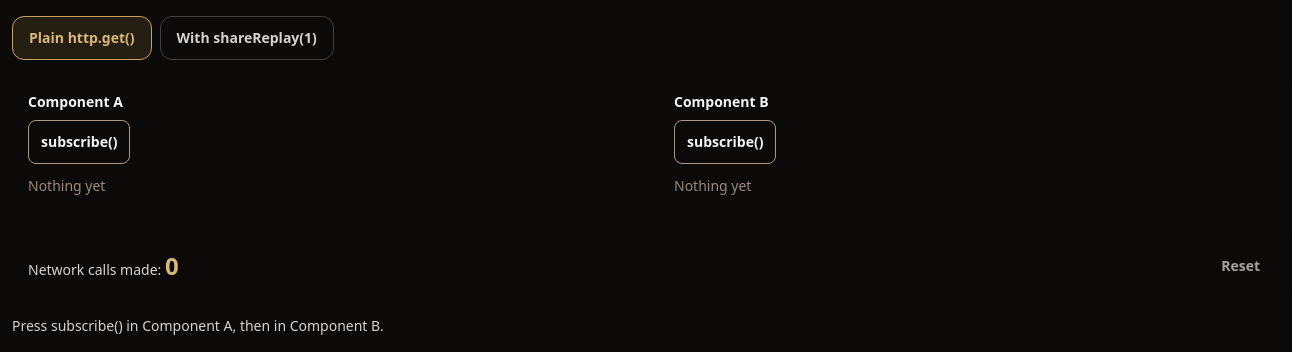
ColdObservableDemoComponent › starts over when the mode changes or on Reset
Click the 1st button "subscribe()" at (79, 142), box x1=28 y1=120 x2=130 y2=164
Wait 500 ms
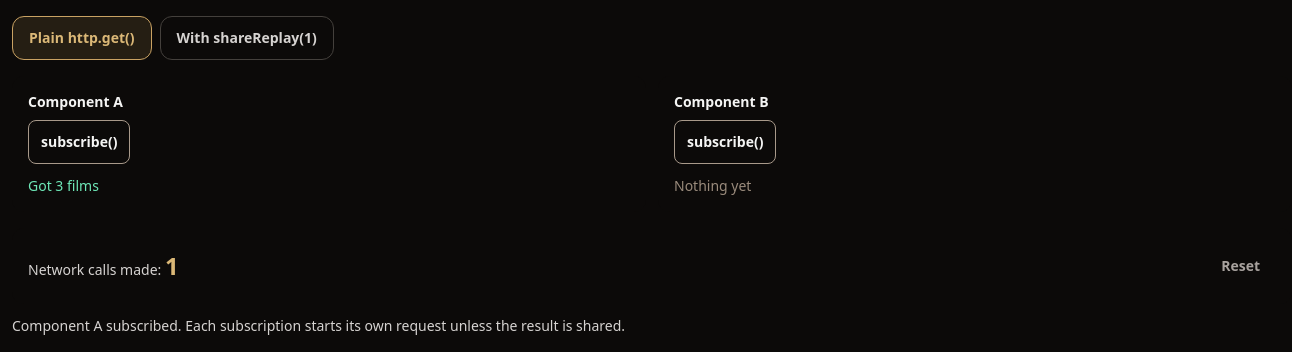
Click the button "Reset" at (1241, 266), box x1=1205 y1=244 x2=1276 y2=288
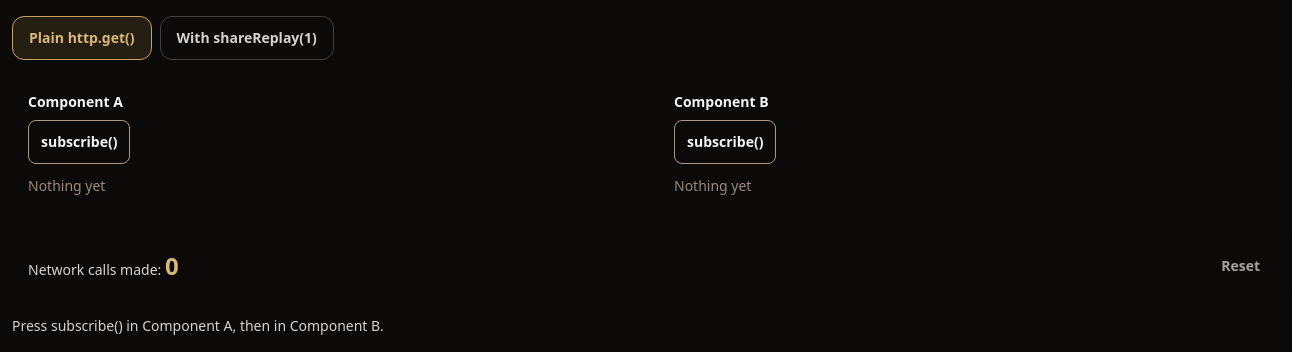
Expected: the 1st text "Nothing yet" is shown, x1=28 y1=176 x2=105 y2=195
